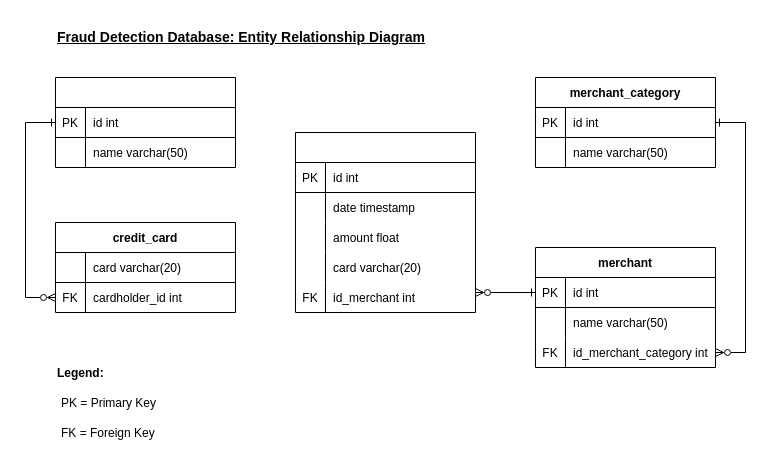
Image size: 772x464. Some labels were removed from this diagram. Here are the shapes that lost their labels. From the top down, the box of each, then its label:
(54, 76, 236, 168): card_holder
(294, 132, 476, 312): transaction
